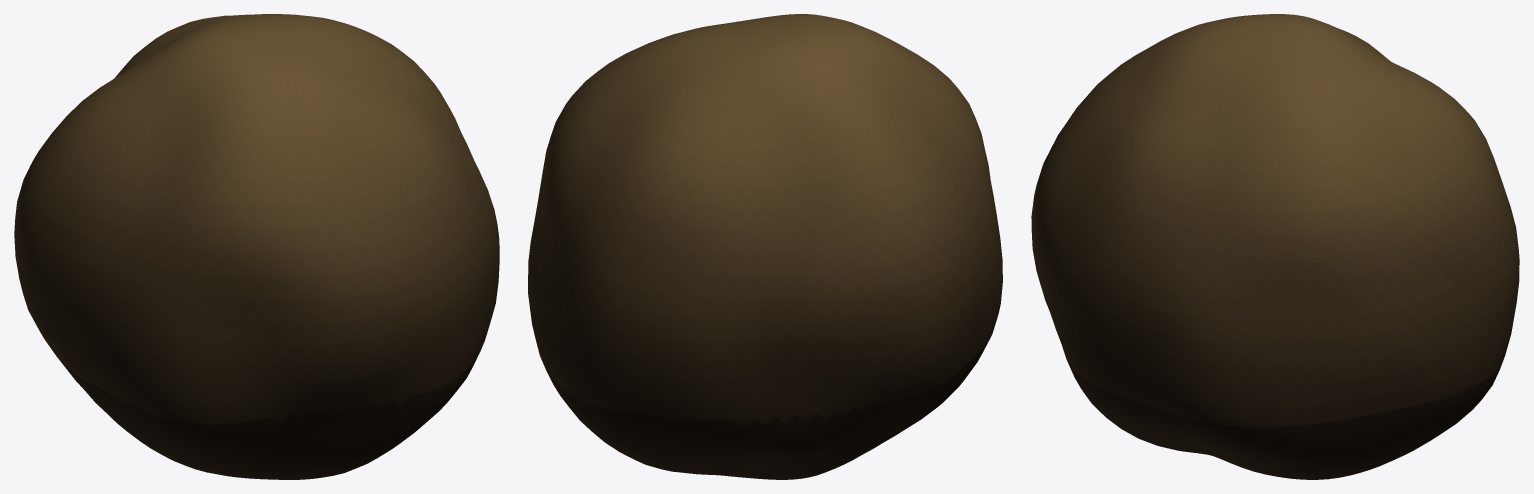
Rendered from colour_weathering.glb.
3 views of the same model, side by side, from view 1: azimuth 30°, elevation 25°; view 2: azimuth 150°, elevation 25°; view 3: azimuth 270°, elevation 25° (orthographic). The views are drawn at different scales.
Visible parts, largest first — view 1: stone; view 2: stone; view 3: stone.
Part boxes in pixels (bbox=[...]): stone: bbox=[14, 14, 499, 479]; stone: bbox=[528, 14, 1002, 479]; stone: bbox=[1031, 14, 1519, 479].
Size of the model in its own units: 0.1006 by 0.0986 by 0.1049.
